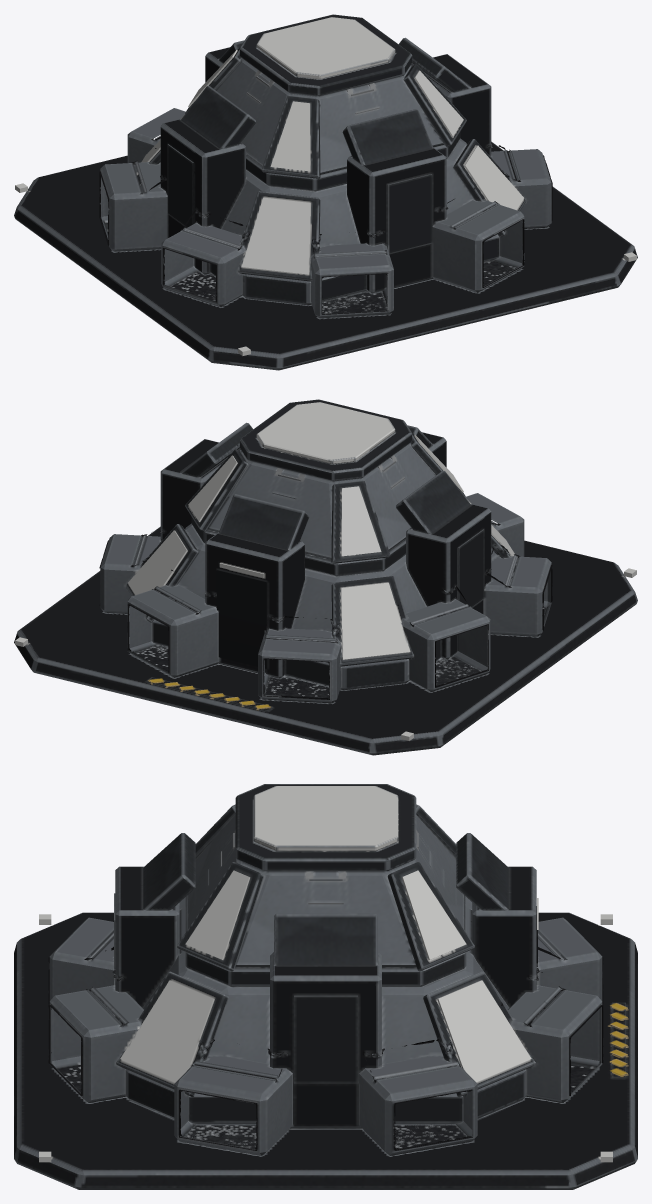
File: chs_accumulator.fbx
3 renders of one model, top to bottom at view 1: azimuth 30°, elevation 25°; view 2: azimuth 150°, elevation 25°; view 3: azimuth 270°, elevation 25°, orthographic. The views are drawn at different scales.
Visible parts, largest first — view 1: base_bar, base_glow_power_bar; view 2: base_bar, base_glow_power_bar, base_glow_running_bar; view 3: base_bar, base_glow_power_bar, base_glow_running_bar.
Boxes of the visible parts, left/top/right/bottom form: base_bar: left=14, top=14, right=637, bottom=370; base_glow_power_bar: left=141, top=17, right=523, bottom=274; base_bar: left=14, top=399, right=637, bottom=755; base_glow_power_bar: left=128, top=402, right=514, bottom=659; base_glow_running_bar: left=15, top=563, right=636, bottom=740; base_bar: left=14, top=784, right=637, bottom=1189; base_glow_power_bar: left=120, top=786, right=531, bottom=1082; base_glow_running_bar: left=39, top=898, right=612, bottom=1162.
Bounding box in the file's own units: 1555 × 870 × 1555.
Materials: 2 (2 with a texture image).
